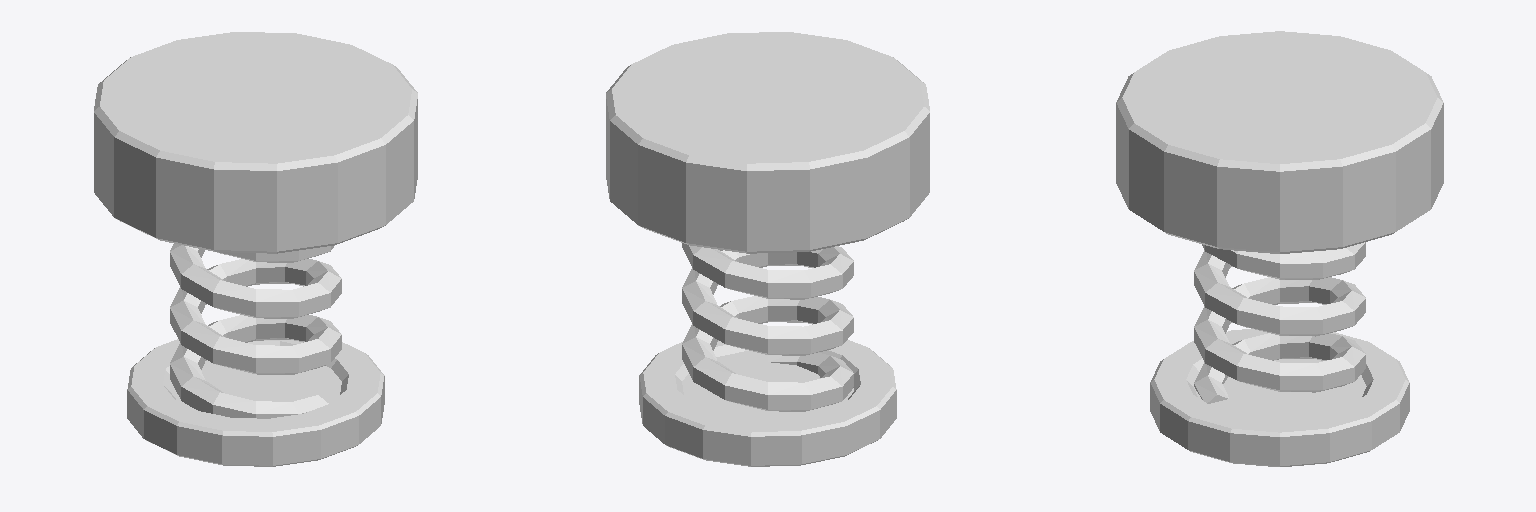
Rendered from Spring.obj.
3 renders of one model, left to right at view 1: azimuth 30°, elevation 25°; view 2: azimuth 150°, elevation 25°; view 3: azimuth 270°, elevation 25°, orthographic.
Parts seen in each view (by area): view 1: polygon12, polygon0, polygon2; view 2: polygon12, polygon0, polygon2; view 3: polygon12, polygon0, polygon2.
Boxes of the visible parts, x1=… form: polygon12: x1=94, y1=32, x2=417, y2=466; polygon0: x1=170, y1=244, x2=341, y2=418; polygon2: x1=170, y1=360, x2=341, y2=405; polygon12: x1=606, y1=32, x2=929, y2=466; polygon0: x1=682, y1=243, x2=853, y2=411; polygon2: x1=682, y1=351, x2=853, y2=418; polygon12: x1=1116, y1=31, x2=1443, y2=466; polygon0: x1=1194, y1=242, x2=1365, y2=403; polygon2: x1=1193, y1=359, x2=1366, y2=418.
Bounding box in the file's own units: 9.9 × 10.56 × 9.9.